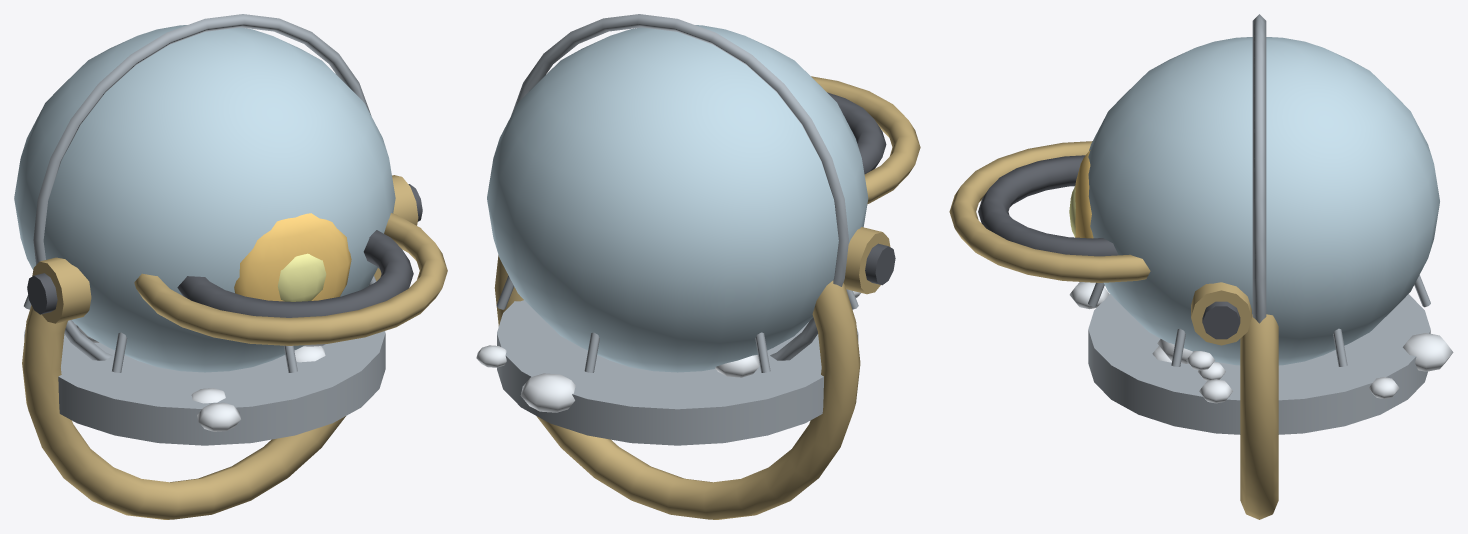
The model's file is restorer_dome.glb.
3 views of the same model, side by side, from view 1: azimuth 30°, elevation 25°; view 2: azimuth 150°, elevation 25°; view 3: azimuth 270°, elevation 25° (orthographic). The views are drawn at different scales.
Visible parts, largest first — view 1: rs_glass, rs_steel, rs_brass.001, rs_brass, rs_steel.001, glow, rs_dark, rs_brass.002, glow*2, rs_frost.002, rs_dark.001, rs_brass.003; view 2: rs_glass, rs_steel, rs_brass.001, rs_steel.001, rs_brass, rs_dark, rs_frost.001, rs_brass.002, rs_dark.001, rs_frost, rs_frost.009; view 3: rs_glass, rs_steel, rs_brass, rs_brass.001, rs_dark, rs_steel.001, rs_brass.003, rs_frost.001, rs_dark.002, glow, rs_frost.010, rs_frost.002.
Boxes of the visible parts, bbox=[...] form: rs_glass: bbox=[14, 25, 395, 372]; rs_steel: bbox=[24, 323, 385, 445]; rs_brass.001: bbox=[22, 268, 381, 519]; rs_brass: bbox=[134, 213, 447, 345]; rs_steel.001: bbox=[33, 14, 371, 360]; glow: bbox=[234, 213, 351, 301]; rs_dark: bbox=[177, 230, 413, 317]; rs_brass.002: bbox=[32, 257, 91, 323]; glow*2: bbox=[277, 253, 326, 301]; rs_frost.002: bbox=[197, 402, 240, 431]; rs_dark.001: bbox=[27, 273, 57, 314]; rs_brass.003: bbox=[392, 175, 418, 225]; rs_glass: bbox=[487, 25, 868, 372]; rs_steel: bbox=[497, 300, 858, 445]; rs_brass.001: bbox=[494, 255, 860, 519]; rs_steel.001: bbox=[511, 14, 848, 360]; rs_brass: bbox=[811, 76, 920, 204]; rs_dark: bbox=[827, 92, 886, 174]; rs_frost.001: bbox=[520, 373, 575, 412]; rs_brass.002: bbox=[843, 227, 890, 294]; rs_dark.001: bbox=[865, 243, 895, 285]; rs_frost: bbox=[715, 355, 759, 377]; rs_frost.009: bbox=[476, 345, 506, 367]; rs_glass: bbox=[1088, 37, 1439, 365]; rs_steel: bbox=[1088, 294, 1430, 434]; rs_brass: bbox=[949, 141, 1150, 282]; rs_brass.001: bbox=[1240, 314, 1278, 519]; rs_dark: bbox=[978, 155, 1118, 256]; rs_steel.001: bbox=[1252, 14, 1266, 323]; rs_brass.003: bbox=[1191, 282, 1251, 345]; rs_frost.001: bbox=[1403, 333, 1453, 371]; rs_dark.002: bbox=[1202, 301, 1240, 339]; glow: bbox=[1075, 150, 1093, 238]; rs_frost.010: bbox=[1199, 379, 1232, 403]; rs_frost.002: bbox=[1069, 282, 1109, 309].
Size of the model in its own units: 1.08 by 1.36 by 1.33.
